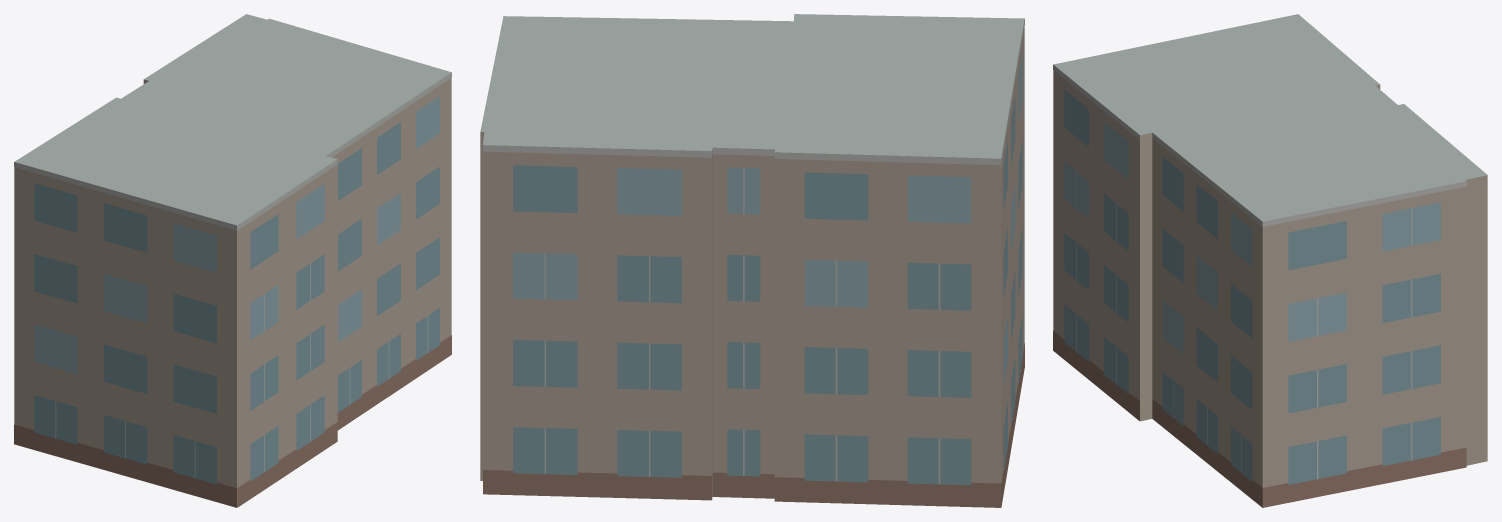
File: survey-upis-32746344.glb
The picture shows the model from 3 angles, left to right: view 1: azimuth 30°, elevation 25°; view 2: azimuth 150°, elevation 25°; view 3: azimuth 270°, elevation 25°; orthographic projection. The views are drawn at different scales.
Visible parts, largest first — view 1: survey-upis-32746344.tmp; view 2: survey-upis-32746344.tmp; view 3: survey-upis-32746344.tmp.
Part boxes in pixels (x1,y1,x2,y2): survey-upis-32746344.tmp: (14,14,451,507); survey-upis-32746344.tmp: (480,14,1024,507); survey-upis-32746344.tmp: (1053,14,1487,507).
Bounding box in the file's own units: 20.48 × 13.15 × 18.11.
